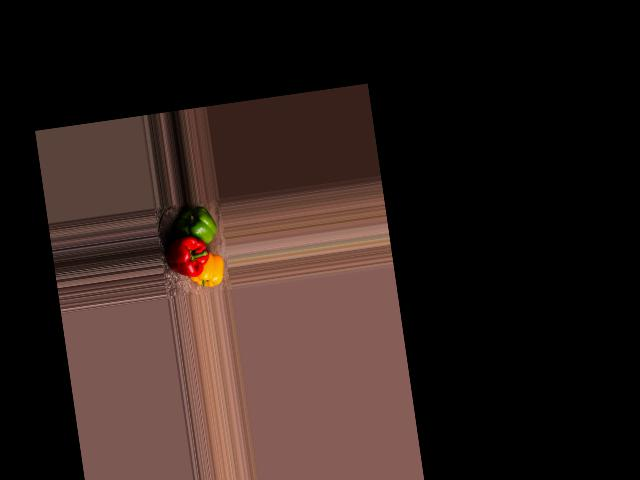bell_pepper: (187, 252, 228, 289)
